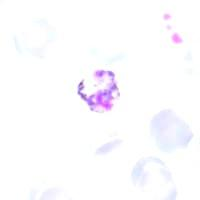Infected: (77, 68, 120, 114)
